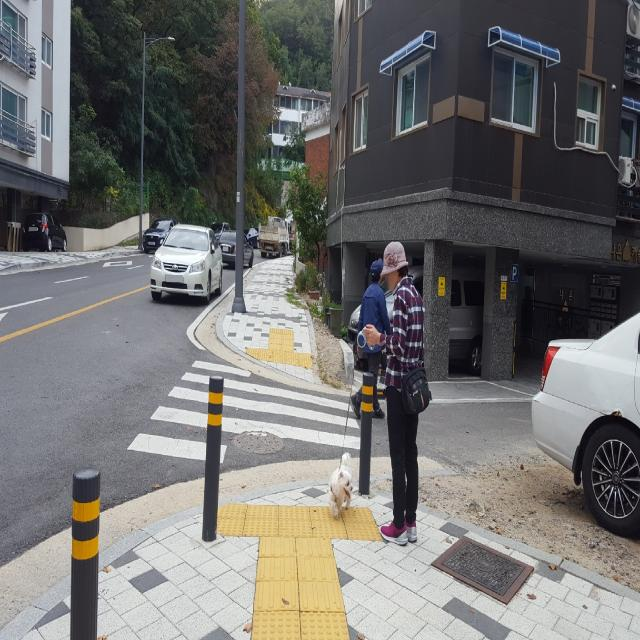횡단보도: (125, 357, 362, 466)
